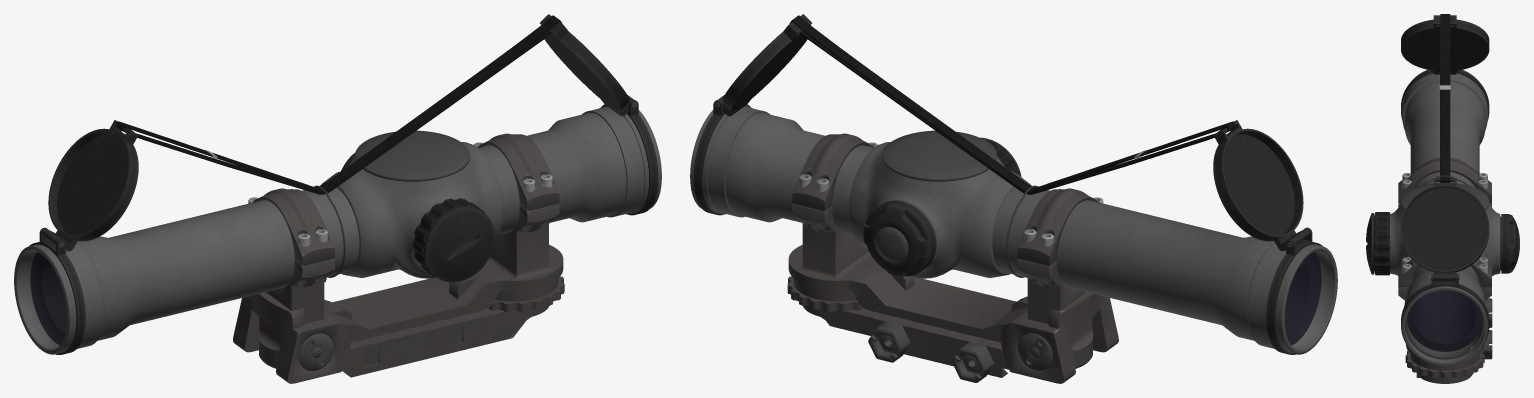
The model's file is elcan.af097e3bc0.glb.
The picture shows the model from 3 angles, left to right: view 1: azimuth 30°, elevation 25°; view 2: azimuth 150°, elevation 25°; view 3: azimuth 270°, elevation 25°; orthographic projection. The views are drawn at different scales.
Visible parts, largest first — view 1: elcan_0, elcan_1; view 2: elcan_0, elcan_1; view 3: elcan_0, elcan_1.
Part boxes in pixels (left/top/right/bottom): elcan_0: left=14, top=14, right=661, bottom=383; elcan_1: left=30, top=252, right=66, bottom=345; elcan_0: left=690, top=14, right=1337, bottom=383; elcan_1: left=1285, top=252, right=1321, bottom=345; elcan_0: left=1366, top=14, right=1519, bottom=383; elcan_1: left=1407, top=290, right=1483, bottom=351.
Size of the model in its own units: 0.2127 by 0.1002 by 0.0622.
2 materials, 1 textured.
